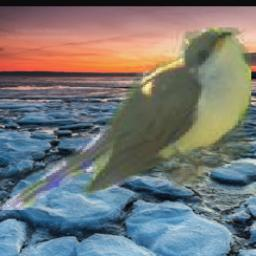Cuckoo: (0, 27, 251, 210)
